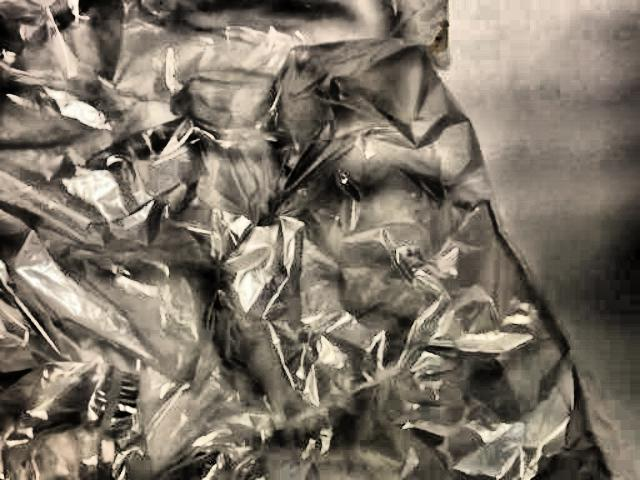Plastic: (0, 4, 638, 480)
